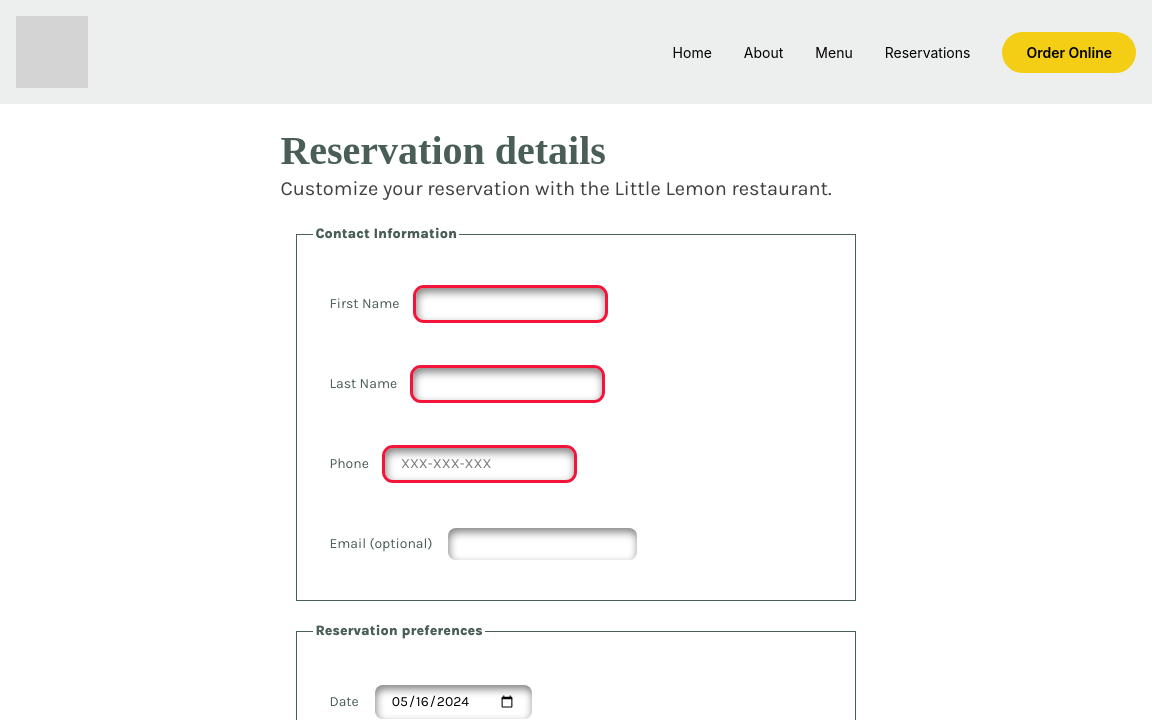
Test: form, validation, and confirmation integration › displays error message for invalid phone number
Click the link "Reservations".
click(928, 52)  # box 885,44 -> 970,60
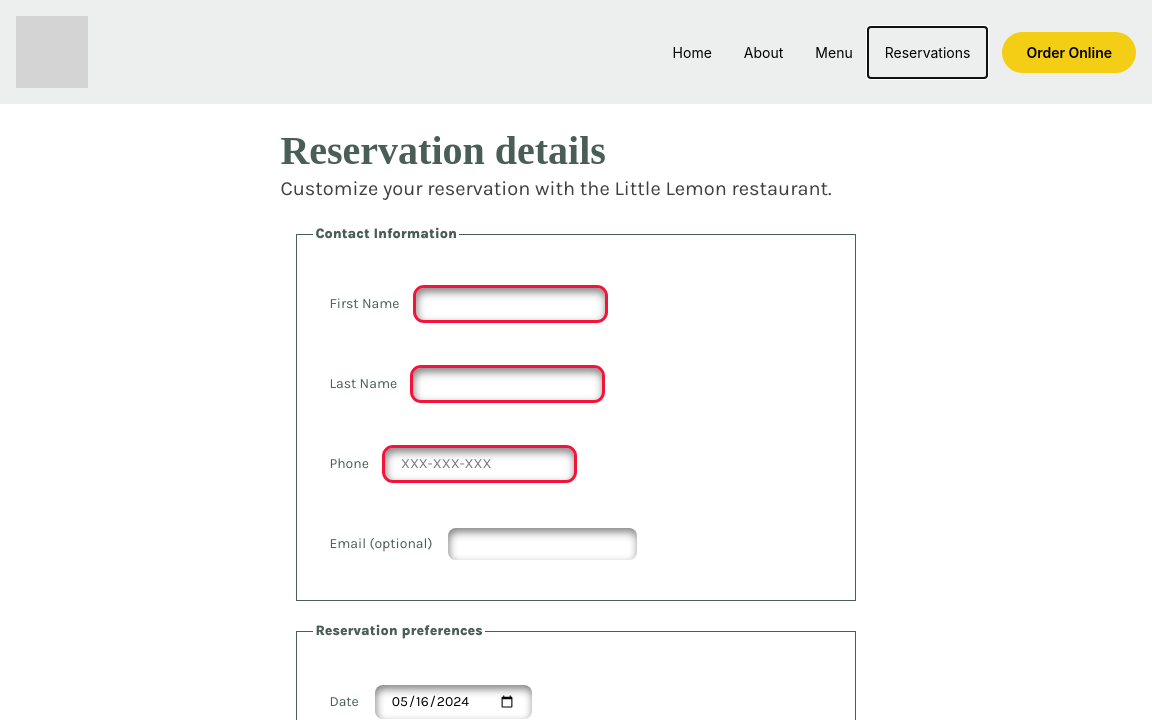
Type "(555)-555-5550" into the field labelled "Phone".
click(479, 464); type("(555)-555-5550")  # box 385,448 -> 574,480
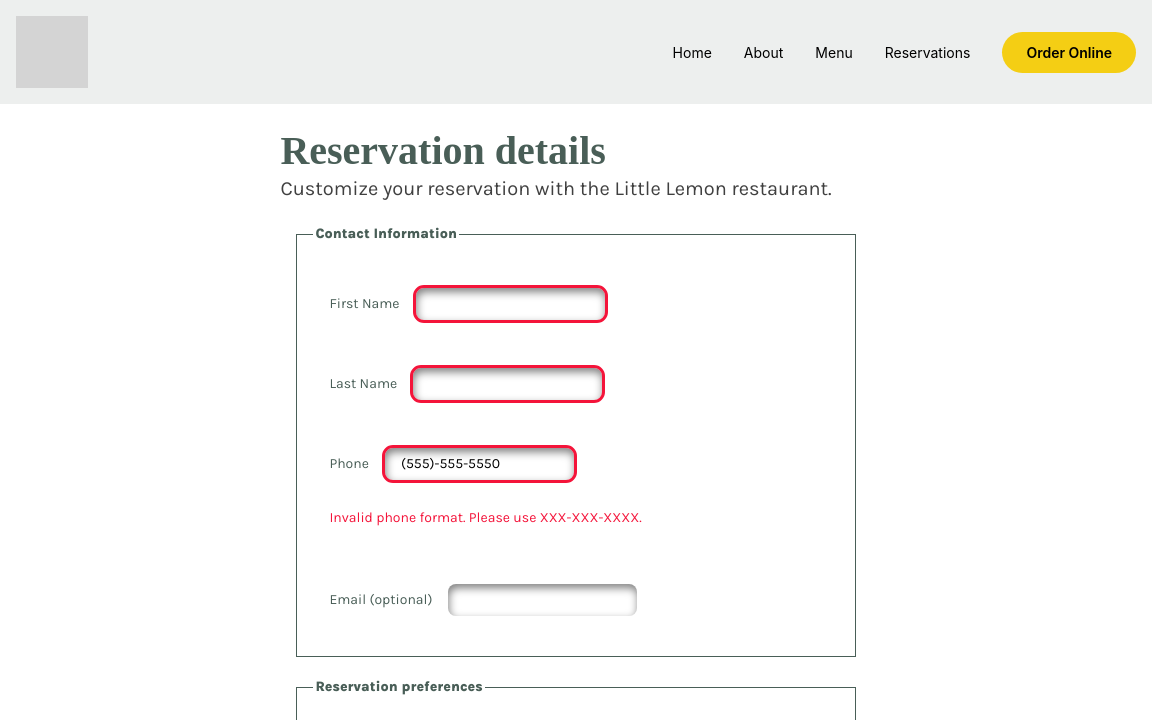
expect the text "Invalid phone format. Please use XXX-XXX-XXXX." is shown: met, box 329,509 -> 642,526
